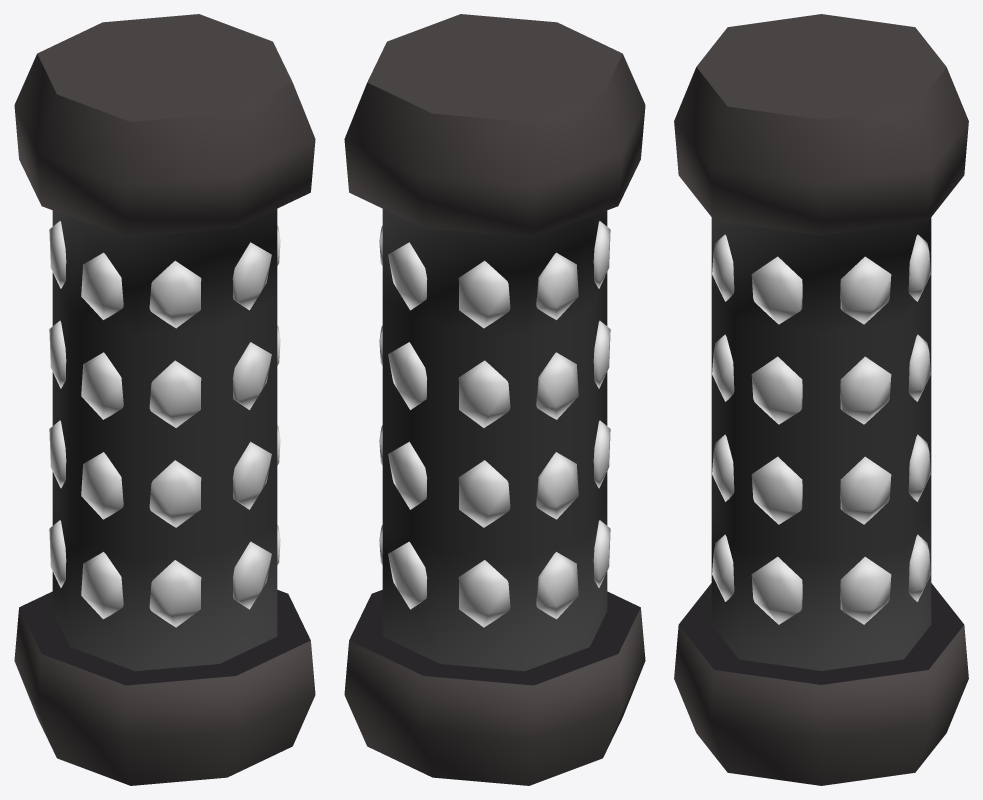
The model's file is SyndicateMiniBomb.fbx.
3 views of the same model, side by side, from view 1: azimuth 30°, elevation 25°; view 2: azimuth 150°, elevation 25°; view 3: azimuth 270°, elevation 25° (orthographic).
Visible parts, largest first — view 1: SyndicateMiniBomb; view 2: SyndicateMiniBomb; view 3: SyndicateMiniBomb.
Boxes of the visible parts, x1,y1,x2,y2 form: SyndicateMiniBomb: (14, 14, 315, 785); SyndicateMiniBomb: (344, 14, 645, 785); SyndicateMiniBomb: (674, 14, 968, 785).
Bounding box in the file's own units: 10.8 × 26.92 × 10.8.
